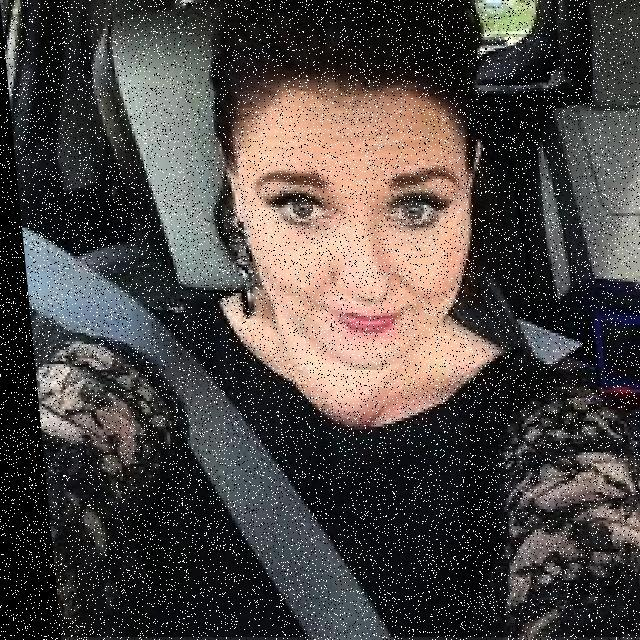seatbelt: (96, 293, 560, 640)
